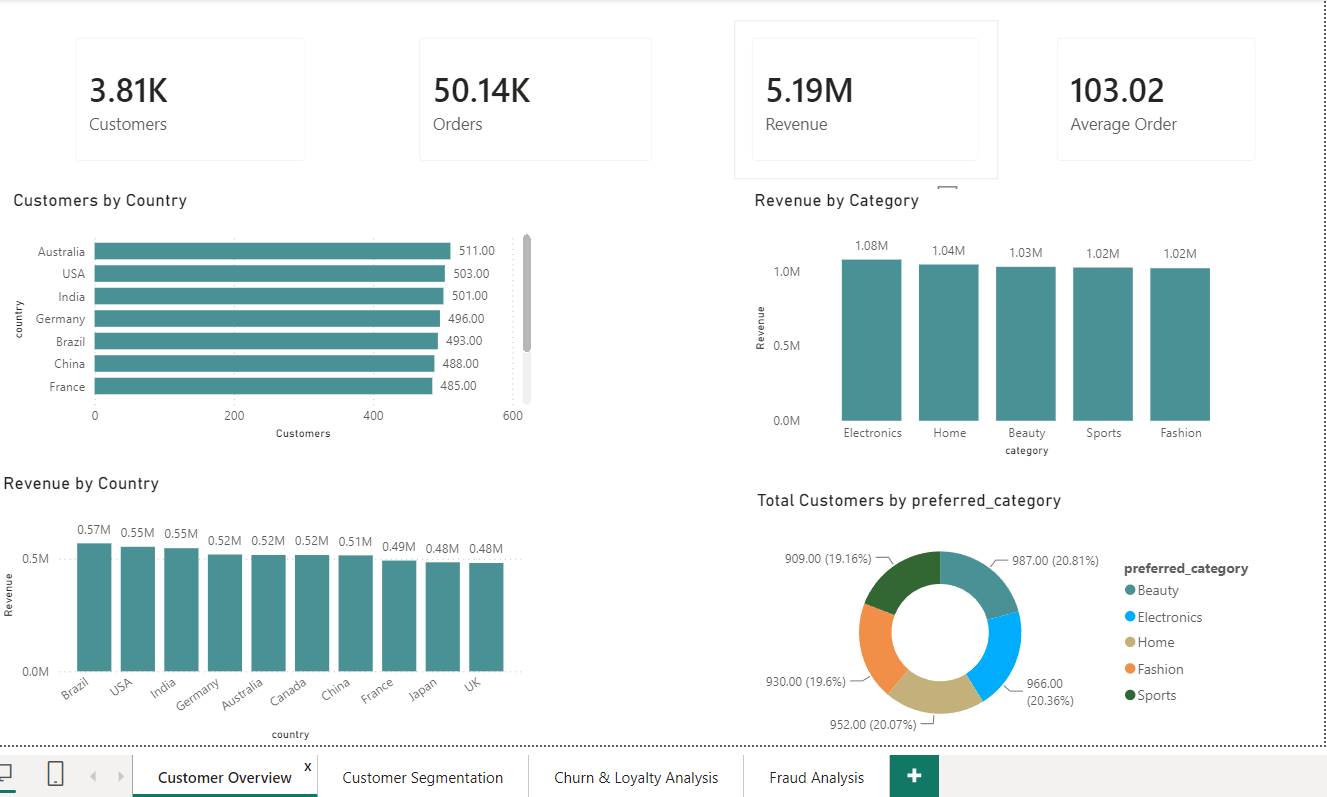

The dashboard page shown, as its layout file describes it:
{"tool":"powerbi","page":{"name":"Customer Overview","canvas":[1280,720],"ordinal":0},"visuals":[{"type":"cardVisual","fields":{"Data":["vw_powerbi_customer.Total Customers"]},"box":[57.9,20.5,257,153.2],"z":0},{"type":"cardVisual","fields":{"Data":["vw_powerbi_customer.Average Order Value"]},"box":[1005,20.5,226.8,153.2],"z":1000},{"type":"cardVisual","fields":{"Data":["vw_powerbi_customer.Estimated Revenue"]},"box":[710.8,20.6,253.9,153.7],"z":2000},{"type":"cardVisual","fields":{"Data":["vw_powerbi_customer.Total Orders"]},"box":[389.7,20.5,259.3,153.7],"z":3000},{"type":"columnChart","title":"Revenue by Country","fields":{"Category":["vw_powerbi_customer.country"],"Y":["vw_powerbi_customer.Estimated Revenue"]},"box":[0,456.9,510.5,263.5],"z":4000},{"type":"clusteredColumnChart","title":" Revenue by Category","fields":{"Category":["vw_powerbi_customer.preferred_category"],"Y":["vw_powerbi_customer.Estimated Revenue"]},"box":[724.5,183.9,481.6,263.5],"z":5000},{"type":"barChart","title":"Customers by Country","fields":{"Y":["vw_powerbi_customer.Total Customers"],"Category":["vw_powerbi_customer.country"]},"box":[9.6,183.9,510,247],"z":6000},{"type":"donutChart","fields":{"Category":["vw_powerbi_customer.preferred_category"],"Y":["vw_powerbi_customer.Total Customers"]},"box":[727.3,473.4,498.1,247],"z":7000}]}

Visuals, with their boxes on the page's 1280x720 design canvas (x1, y1, x2, y2). These are canvas units, not pixel positions in the 1327x797 screenshot, which may show the page scaled, cropped or inside an application window:
cardVisual - vw_powerbi_customer.Total Customers: l=58, t=20, r=315, b=174
cardVisual - vw_powerbi_customer.Average Order Value: l=1005, t=20, r=1232, b=174
cardVisual - vw_powerbi_customer.Estimated Revenue: l=711, t=21, r=965, b=174
cardVisual - vw_powerbi_customer.Total Orders: l=390, t=20, r=649, b=174
"Revenue by Country" columnChart: l=0, t=457, r=510, b=720
" Revenue by Category" clusteredColumnChart: l=724, t=184, r=1206, b=447
"Customers by Country" barChart: l=10, t=184, r=520, b=431
donutChart - vw_powerbi_customer.preferred_category x vw_powerbi_customer.Total Customers: l=727, t=473, r=1225, b=720
